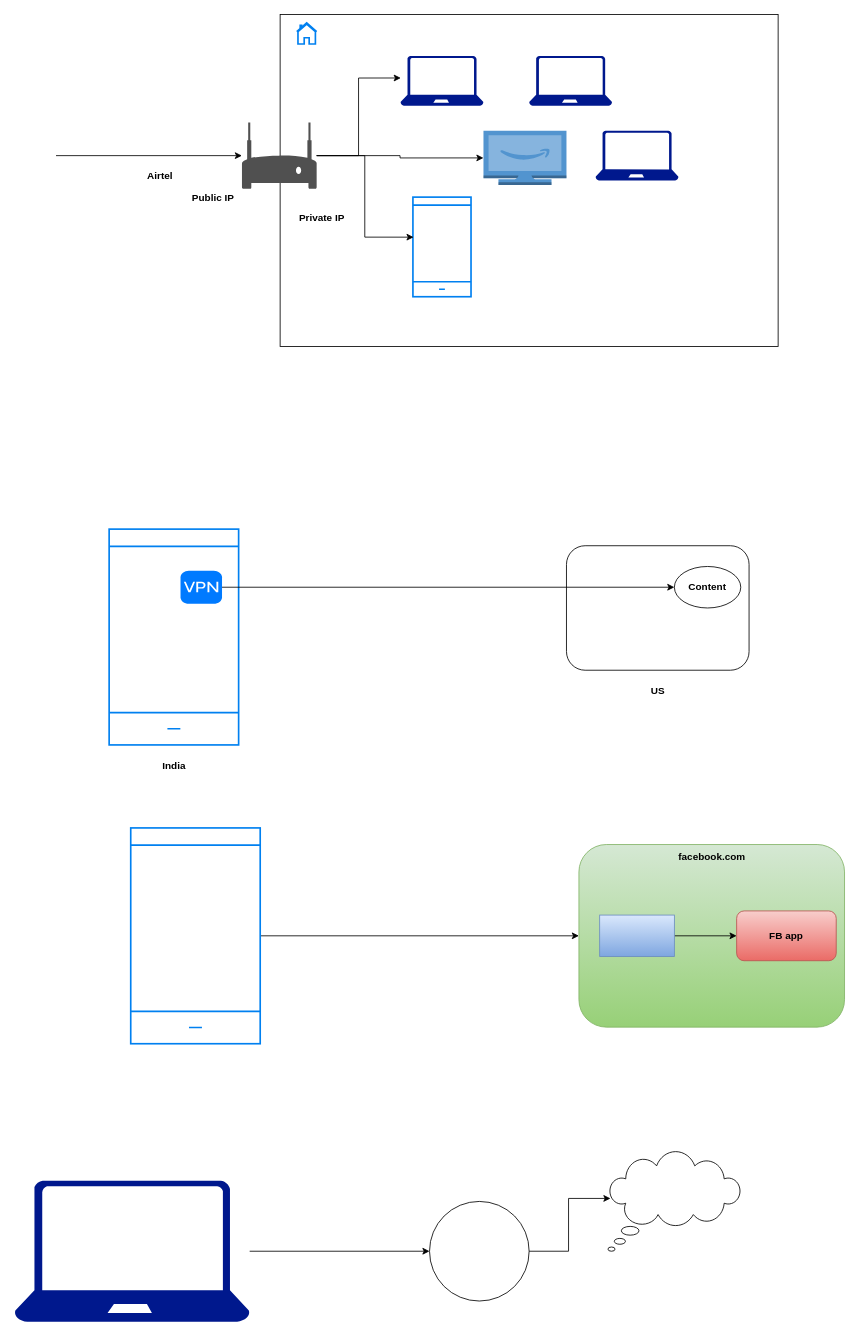
The diagram is 859 pixels wide and 1336 high, and some of its shapes have lost their labels. Each missing label, with the centre of its shape:
"ISP Server" goes at [479,1251].
"Reverse Proxy or Web Server" goes at [636,935].
